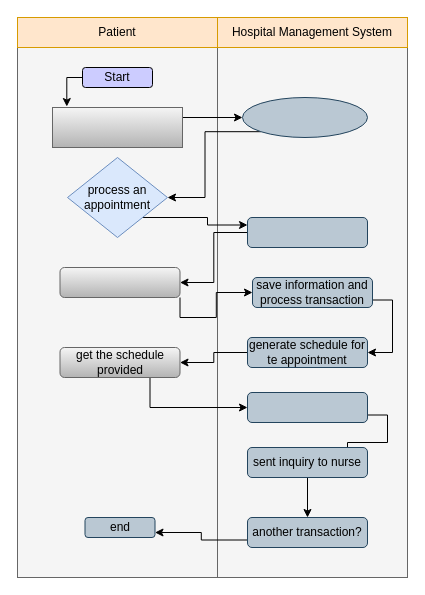
Some shapes in this 425 by 595 pixel diagram are drawn without their labels. The box of each missing label's shape, as (x1, y1, x2, y2) in pixels:
display "please fill out the form: (246, 216, 368, 248)
inquire for adminssion or check up: (52, 106, 182, 148)
provide information: (59, 266, 180, 298)
set appointment: (246, 392, 368, 422)
show services information: (242, 96, 368, 138)
